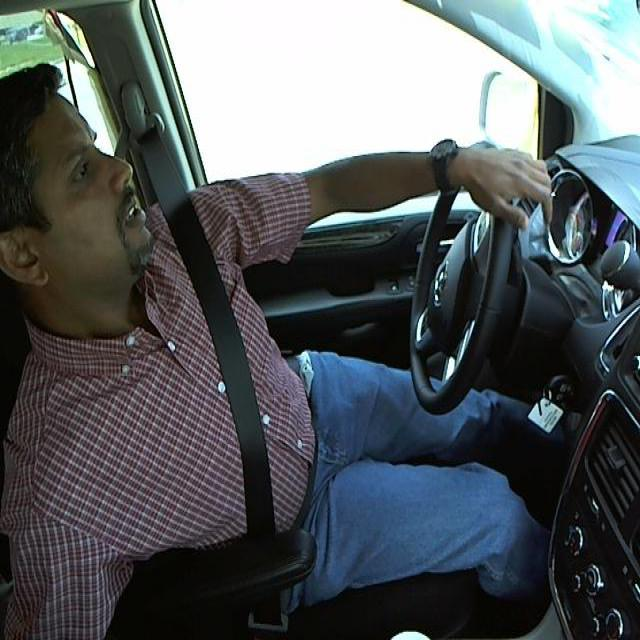seatbelt: (163, 227, 294, 513)
